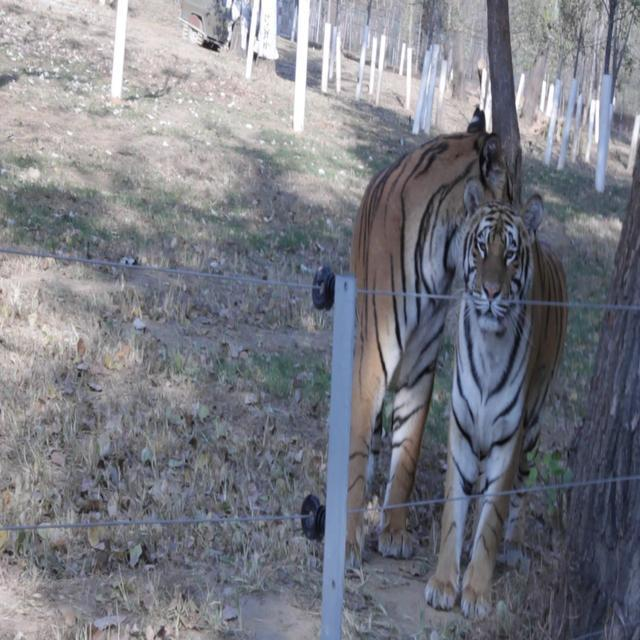tiger: (302, 104, 568, 619), (422, 177, 568, 619)
